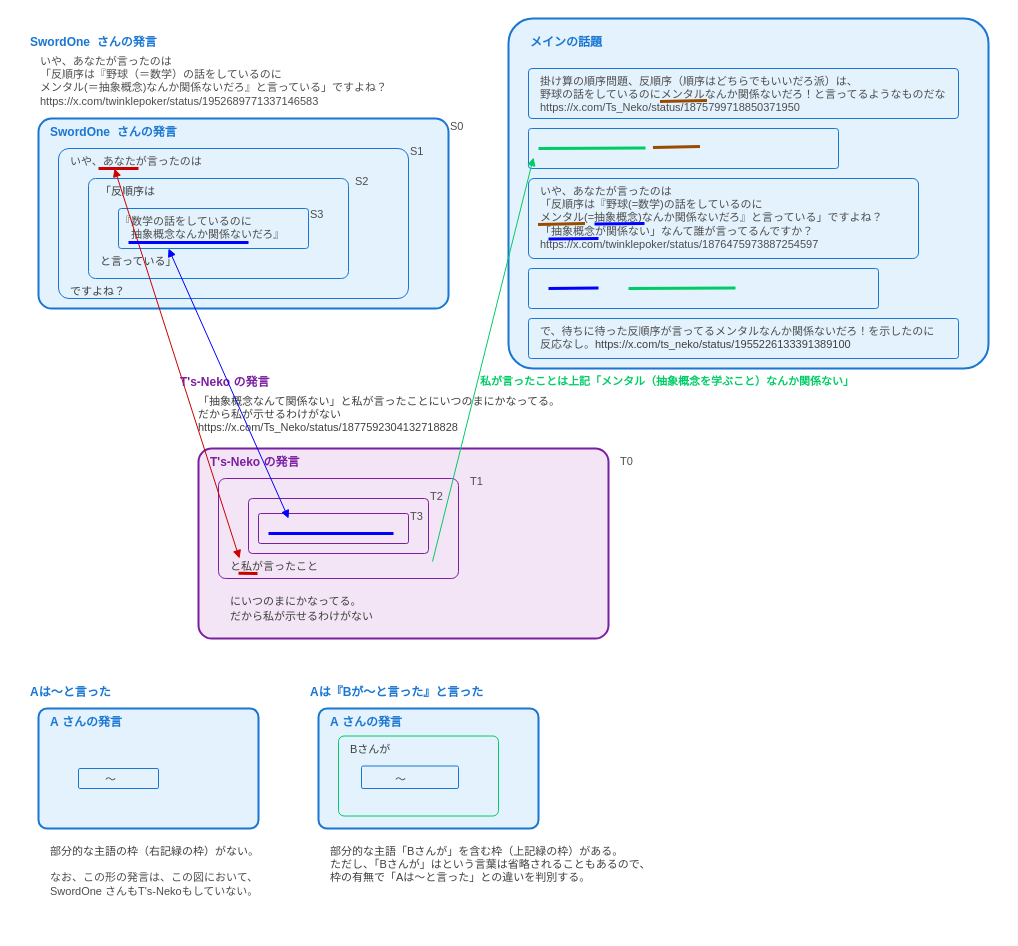
Image size: 1018x946. Some labels were removed from this diagram. The shapes that lost their labels are listed below. From the top down, each one's centre as x and y in pixels, then its label:
At (x=683, y=148): "抽象概念を学ぶことをメンタルにたとえています。 https://x.com/Ts_Neko/status/1876147337661407295".
At (x=703, y=288): "「抽象概念」と「抽象概念を学ぶこと」のどちらを示せばいい？ https://x.com/ts_neko/status/1953612582490931465".
At (x=333, y=528): "「抽象概念なんて関係ない」".
